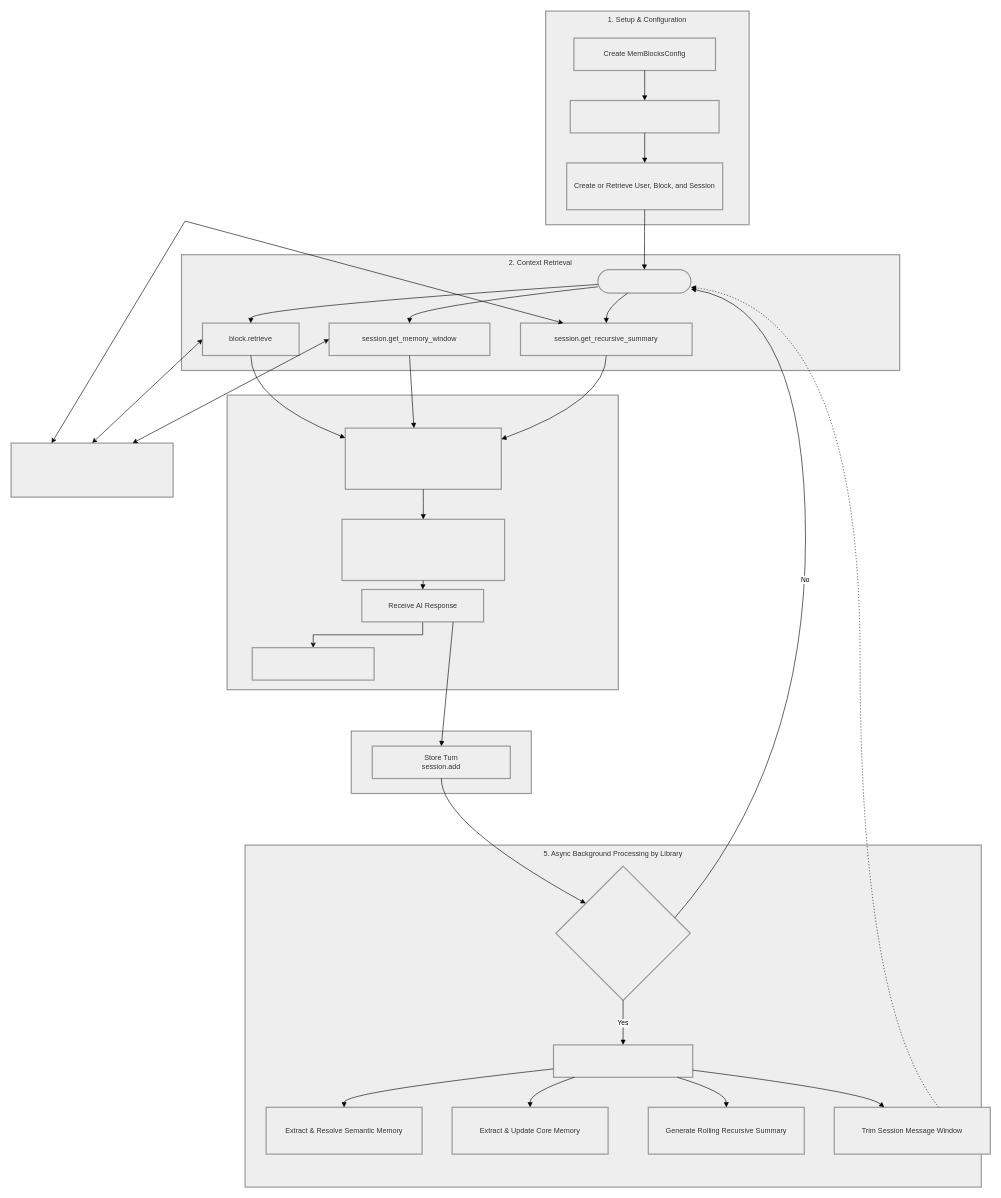
This 1001x1198 diagram has some shape labels left out. Each missing label, with the centre of its shape:
"Build System Prompt Insert Context & History" belongs at point (423, 458).
"Business logic" belongs at point (312, 663).
"Call LLM API e.g., client.conversation_llm.chat or external provider" belongs at point (423, 549).
"Initialize MemBlocksClient" belongs at point (644, 116).
"Is Memory Window Full?" belongs at point (623, 933).
"Library retrieval pipeline" belongs at point (91, 469).
"New User Message" belongs at point (644, 281).
"Trigger Memory Pipeline" belongs at point (623, 1061).
